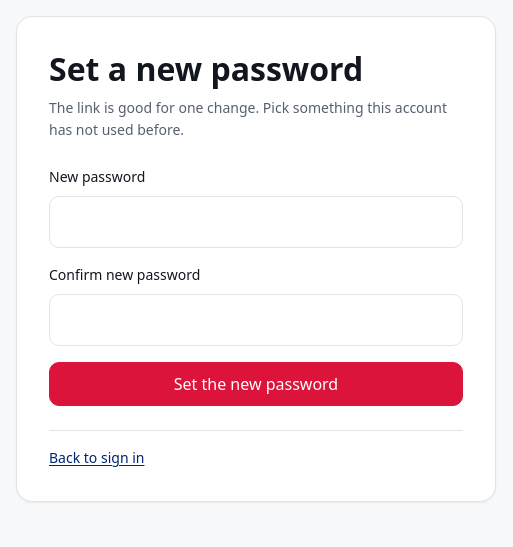
Test: ResetPasswordPage › does not spend the link when the two fields disagree
Type "BrandNewPass1!" into the password field labelled "New password" at {"x": 256, "y": 222}, box [49, 196, 463, 248]
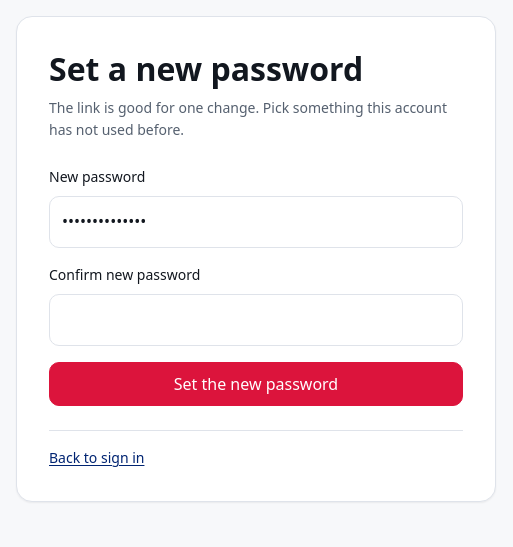
Type "SomethingElse1!" into the password field labelled "Confirm new password" at {"x": 256, "y": 320}, box [49, 294, 463, 346]
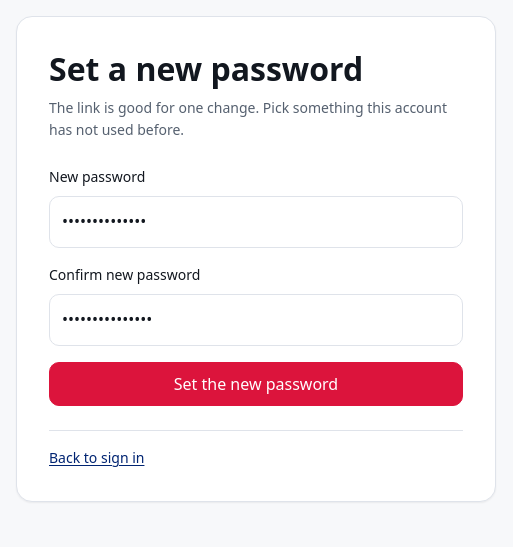
Click the button "Set the new password" at {"x": 256, "y": 384}, box [49, 362, 463, 406]
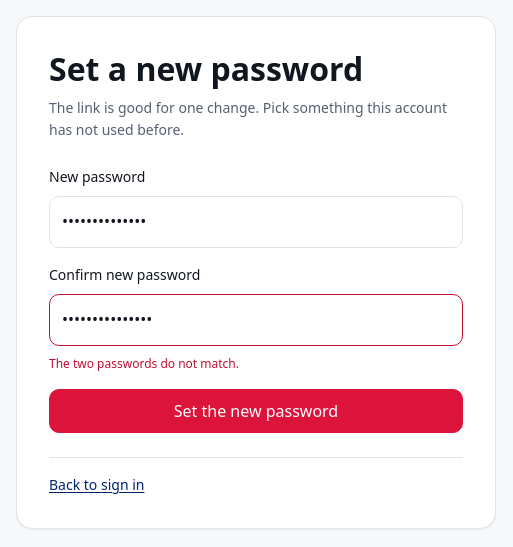
Expected: the text "The two passwords do not match." is shown, [49, 355, 239, 372]
